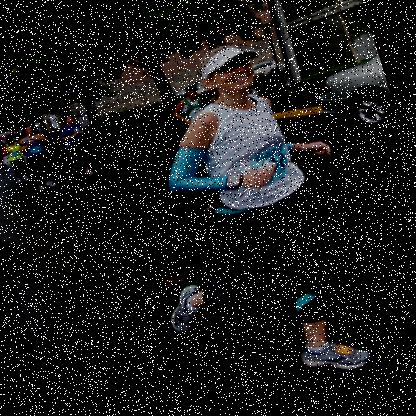Car: (309, 54, 398, 139)
